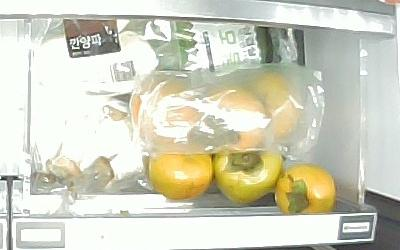persimmon: (214, 145, 282, 205), (149, 145, 213, 200), (276, 163, 337, 213)
persimmon_vinyl: (130, 77, 198, 145), (201, 87, 267, 148), (252, 72, 305, 138)
